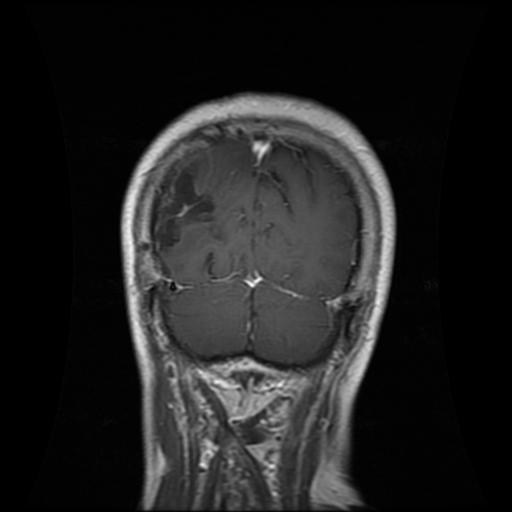Gliomia_tumour: (160, 162, 215, 248)
